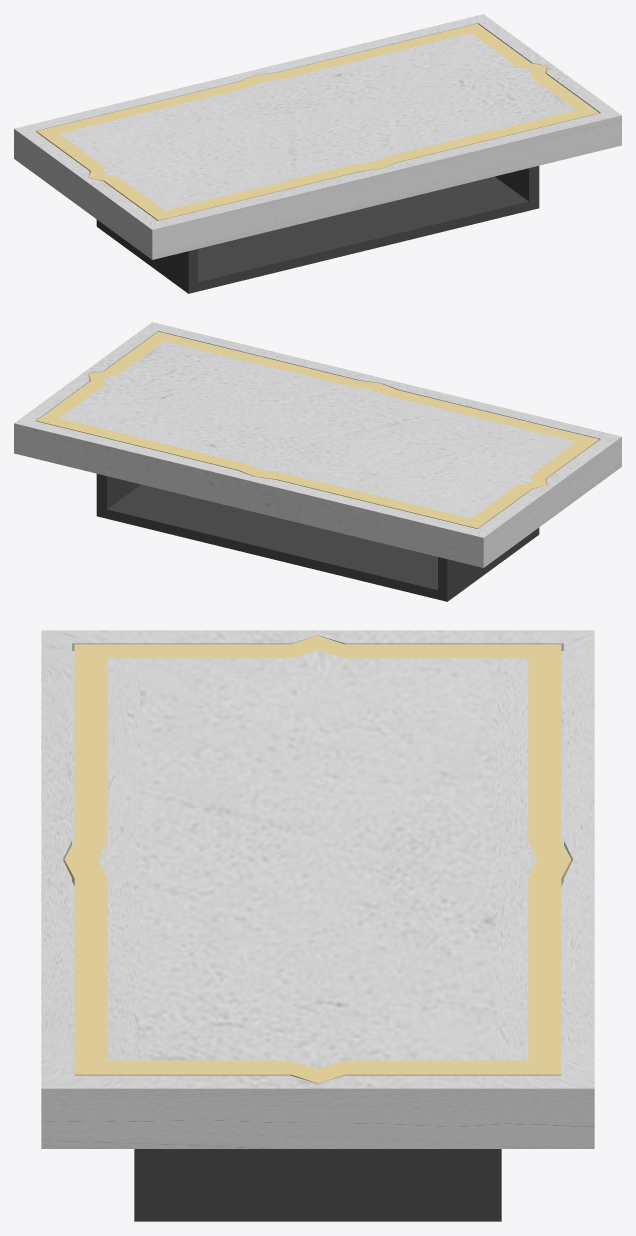
Rendered from Table.fbx.
The picture shows the model from 3 angles, top to bottom: view 1: azimuth 30°, elevation 25°; view 2: azimuth 150°, elevation 25°; view 3: azimuth 270°, elevation 25°; orthographic projection. The views are drawn at different scales.
Parts seen in each view (by area): view 1: TableTop, TableFoot; view 2: TableTop, TableFoot; view 3: TableTop, TableFoot.
Part boxes in pixels (bbox=[...]): TableTop: bbox=[14, 14, 621, 259]; TableFoot: bbox=[96, 166, 539, 293]; TableTop: bbox=[14, 322, 621, 567]; TableFoot: bbox=[96, 474, 539, 601]; TableTop: bbox=[41, 630, 594, 1148]; TableFoot: bbox=[134, 1149, 501, 1221].
Bounding box in the file's own units: 56.41 × 10.96 × 28.79.
Materials: 3 (1 with a texture image).
